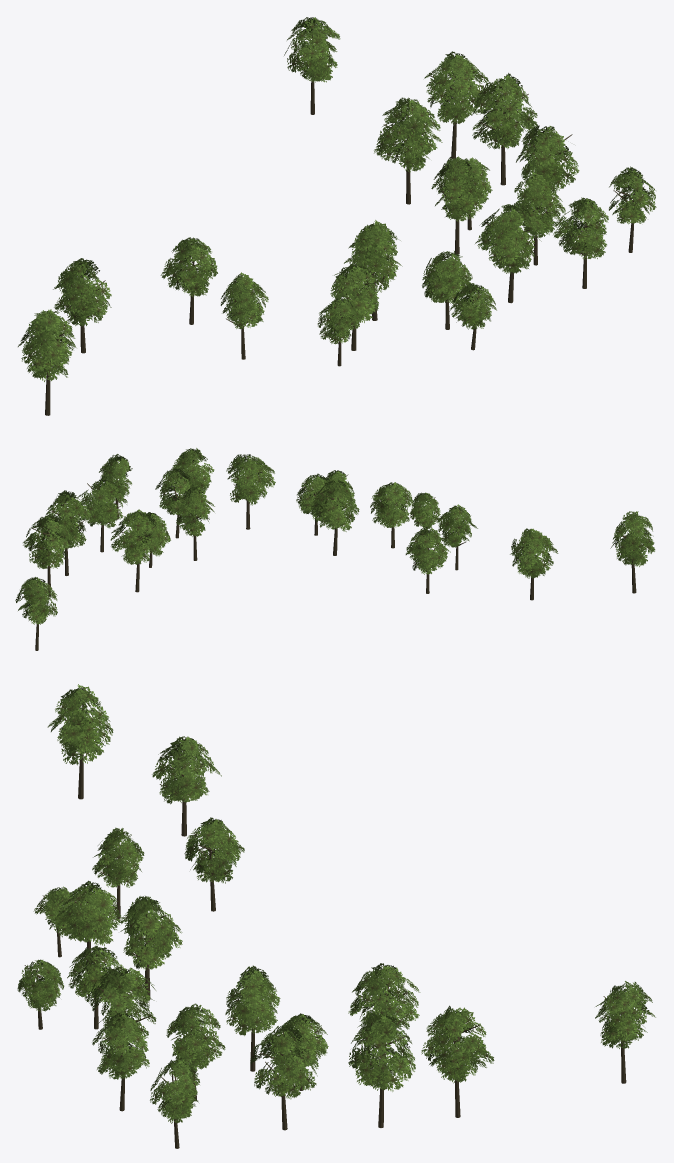
The model's file is TRB8-FOREST-CHUNK-4-5.glb.
3 views of the same model, one above another, from view 1: azimuth 30°, elevation 25°; view 2: azimuth 150°, elevation 25°; view 3: azimuth 270°, elevation 25° (orthographic). The views are drawn at different scales.
Parts seen in each view (by area): view 1: TRB8-FOREST-CHUNK-4-5; view 2: TRB8-FOREST-CHUNK-4-5; view 3: TRB8-FOREST-CHUNK-4-5.
Part boxes in pixels (x1,y1,x2,y2): TRB8-FOREST-CHUNK-4-5: (18,17,656,415); TRB8-FOREST-CHUNK-4-5: (15,448,655,650); TRB8-FOREST-CHUNK-4-5: (17,684,655,1148).
Size of the model in its own units: 38.08 by 6.98 by 29.61.
2 materials, 1 textured.
